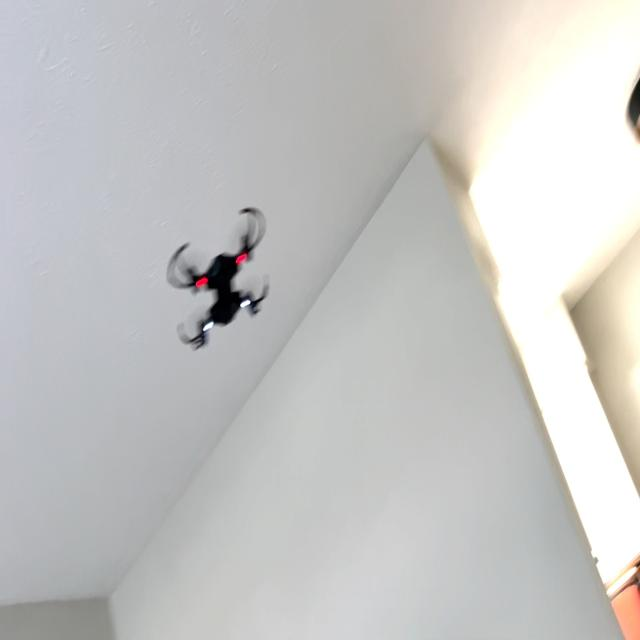drone: (164, 192, 275, 358)
